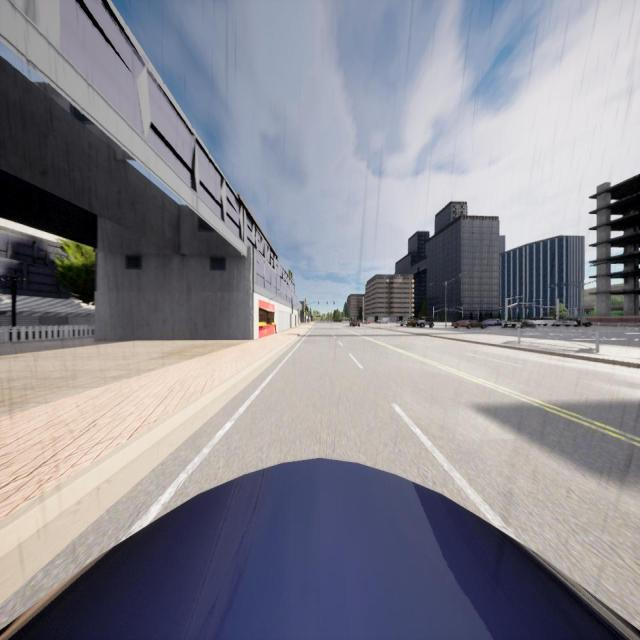Vehicle: (0, 458, 640, 640), (451, 315, 484, 329), (413, 315, 434, 328), (552, 318, 577, 327), (485, 318, 502, 328), (520, 319, 536, 329), (399, 317, 413, 327), (578, 318, 592, 327), (503, 319, 516, 328), (349, 319, 360, 327), (363, 320, 373, 324)
traffic_light: (318, 301, 319, 304), (327, 302, 328, 304), (334, 302, 334, 304)
